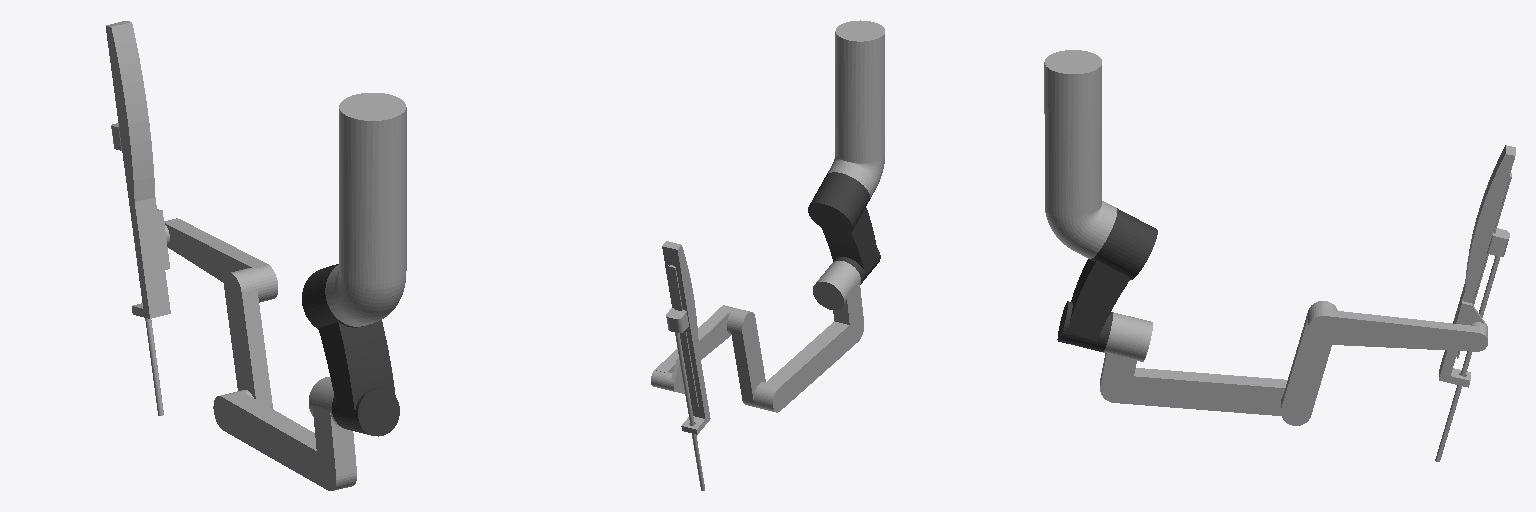
URDF robot description (visual):
<?xml version="1.0"?>
<robot name="visual">
    <material name="blue">
    <color rgba="0 0 0.8 1"/>
  </material>
  <material name="black">
    <color rgba="0.3 0.3 0.3 1"/>
  </material>
  <material name="white">
    <color rgba="1 1 1 1"/>
  </material>
    <material name="light_grey">
        <color rgba="0.7 0.7 0.7 1.0"/>
    </material>

  <link name="graber_4t_link">
    <visual>
        <geometry>
            <mesh filename="package://robot_description/meshes/visual/14_graber_4t.stl" />
        </geometry>
        <origin rpy="-1.5708 -1.5708 0" xyz="0 0 1"/>
        <material name="light_grey"/>
    </visual>
  </link>

  <joint name="4t_r5_joint" type="revolute">
        <parent link="graber_4t_link"/>
        <child link="graber_r5_link"/>
        <origin rpy="-0.52333 0 0" xyz="0 0.0569 0.6348"/>
        <axis xyz="0 1 0"/>
        <limit effort="2.0" lower="-1.57" upper="1.57" velocity="2.0"/>
        <dynamics dmaping="0.0" friction="0.0"/>
  </joint>

  <link name="graber_r5_link">
    <visual>
        <geometry>
            <mesh filename="package://robot_description/meshes/visual/15_graber_r5.stl" />
        </geometry>
        <origin rpy="1.5708 1.5708 0" xyz="0 0 0"/>
        <material name="black"/>
    </visual>
  </link>

  <joint name="r5_r67_joint" type="revolute">
        <parent link="graber_r5_link"/>
        <child link="graber_r67_link"/>
        <origin rpy="0.261799388 0 0" xyz="0 0.11338 -0.17756"/>
         <axis xyz="0 1 0"/>
        <limit effort="2.0" lower="-1.57" upper="1.57" velocity="2.0"/>
        <dynamics dmaping="0.0" friction="0.0"/>
  </joint>

      <link name="graber_r67_link">
    <visual>
        <geometry>
            <mesh filename="package://robot_description/meshes/visual/16_graber_r67.stl" />
        </geometry>
        <origin rpy="1.5707 0 0" xyz="0 0 0"/>
        <material name="light_grey"/>
    </visual>
  </link>

<joint name="r67_r8_joint" type="revolute">
        <parent link="graber_r67_link"/>
        <child link="graber_r8_link"/>
        <origin rpy="0 0 0" xyz="0.005 0.39069 -0.05209"/>
         <axis xyz="1 0 0"/>
        <limit effort="2.0" lower="-1.57" upper="1.57" velocity="2.0"/>
        <dynamics dmaping="0.0" friction="0.0"/>
  </joint>

    <link name="graber_r8_link">
    <visual>
        <geometry>
            <mesh filename="package://robot_description/meshes/visual/18_graber_r8.stl" />
        </geometry>
        <origin rpy="0 1.5708 0" xyz="0 0 0"/>
        <material name="light_grey"/>
    </visual>
  </link>

  <joint name="r8_r9_joint" type="revolute">
        <parent link="graber_r8_link"/>
        <child link="graber_r9_link"/>
        <origin rpy="0.17453 0 0" xyz="0.04 0.0 0.200"/>
        <axis xyz="1 0 0"/>
        <limit effort="2.0" lower="-1.57" upper="1.57" velocity="2.0"/>
        <mimic joint="r67_r8_joint" multiplier="-1.0" offset="0.0"/>
        <dynamics dmaping="0.0" friction="0.0"/>
  </joint>

    <link name="graber_r9_link">
    <visual>
        <geometry>
            <mesh filename="package://robot_description/meshes/visual/19_graber_r9.stl" />
        </geometry>
        <origin rpy="1.5708 0 1.5708" xyz="0 0 0"/>
        <material name="light_grey"/>
    </visual>
  </link>

  <joint name="r9_r10_joint" type="revolute">
        <parent link="graber_r9_link"/>
        <child link="graber_r10_link"/>
        <origin rpy="-0.17453 0 0" xyz="0 0.3 0"/>
        <axis xyz="1 0 0"/>
        <limit effort="2.0" lower="-1.57" upper="1.57" velocity="2.0"/>
         <mimic joint="r67_r8_joint" multiplier="1.0" offset="0.0"/>
        <dynamics dmaping="0.0" friction="0.0"/>
  </joint>

    <link name="graber_r10_link">
    <visual>
        <geometry>
            <mesh filename="package://robot_description/meshes/visual/110_graber_r10.stl" />
        </geometry>
        <origin rpy="-1.5708 1.5708 1.5708" xyz="0 0 0"/>
        <material name="light_grey"/>
    </visual>
  </link>

<joint name="r10_slide_joint" type="prismatic">
        <parent link="graber_r10_link"/>
        <child link="graber_r10_slide_link"/>
        <origin rpy="0 0 0" xyz="-0.045 -0.025 0.200"/>
        <axis xyz="0 0 -1"/>
        <limit effort="2.0" lower="-0.1" upper="0.25" velocity="2.0"/>
        <dynamics dmaping="0.0" friction="0.0"/>
  </joint>


    <link name="graber_r10_slide_link">
    <visual>
        <geometry>
            <mesh filename="package://robot_description/meshes/visual/111_graber_r10_slider.stl" />
        </geometry>
        <origin rpy="-1.5708 0 0" xyz="0 0 0"/>
        <material name="light_grey"/>
    </visual>
  </link>
<joint name="slide_pole_joint" type="fixed">
        <parent link="graber_r10_slide_link"/>
        <child link="graber_r10_pole_link"/>
        <origin rpy="-1.5708 0 0" xyz="0 0.025 0"/>
  </joint>
    <link name="graber_r10_pole_link">
    <visual>
        <geometry>
            <mesh filename="package://robot_description/meshes/visual/112_graber_r10_pole.stl" />
        </geometry>
        <origin rpy="0 0 0" xyz="0 0 0"/>
        <material name="light_grey"/>
    </visual>
  </link>
	<joint name="end_effector_joint" type="fixed">
		<parent link="graber_r10_pole_link"/>
		<child link="remote_center"/>
		<origin rpy="0 0 0" xyz="0 0.4 0" />
	</joint>
<link name="remote_center"/>
<joint name="center_end_joint" type="fixed">
	<parent link="remote_center" />
	<child link="graber_end" />
	<origin rpy="0 0 0" xyz="0 0.1 0" />
</joint>
<link name="graber_end"/>



</robot>

--- Render facts (derived) ---
3 views of the same robot in one strip: view 1: azimuth 30°, elevation 25°; view 2: azimuth 150°, elevation 25°; view 3: azimuth 270°, elevation 25° (orthographic).
Model visual with 10 links and 9 joints (5 revolute, 1 prismatic, 3 fixed), rooted at graber_4t_link, posed all joints at 0.
Visible links, largest first — view 1: graber_4t_link, graber_r10_link, graber_r5_link, graber_r67_link, graber_r8_link, graber_r9_link, graber_r10_pole_link; view 2: graber_4t_link, graber_r67_link, graber_r5_link, graber_r10_link, graber_r8_link, graber_r9_link, graber_r10_pole_link; view 3: graber_4t_link, graber_r67_link, graber_r5_link, graber_r9_link, graber_r10_link, graber_r8_link, graber_r10_pole_link.
Boxes of the visible links, x1,y1,x2,y2 form: graber_4t_link: (325,93,406,326); graber_r10_link: (106,21,170,318); graber_r5_link: (302,264,399,436); graber_r67_link: (213,377,356,490); graber_r8_link: (224,268,272,408); graber_r9_link: (164,218,277,302); graber_r10_pole_link: (145,318,163,415); graber_4t_link: (827,20,884,198); graber_r67_link: (756,261,863,412); graber_r5_link: (808,172,880,284); graber_r10_link: (662,241,710,434); graber_r8_link: (729,309,765,407); graber_r9_link: (651,305,736,389); graber_r10_pole_link: (672,314,704,490); graber_4t_link: (1044,50,1116,258); graber_r67_link: (1100,312,1287,415); graber_r5_link: (1057,208,1157,351); graber_r9_link: (1308,308,1487,351); graber_r10_link: (1439,145,1515,387); graber_r8_link: (1281,301,1337,425); graber_r10_pole_link: (1435,233,1506,461).
Size in the robot's own frame: 0.136 by 0.9097 by 0.851 metres.
Meshes: 8 distinct files referenced, 8 mesh visuals loaded (8 binary STL).
